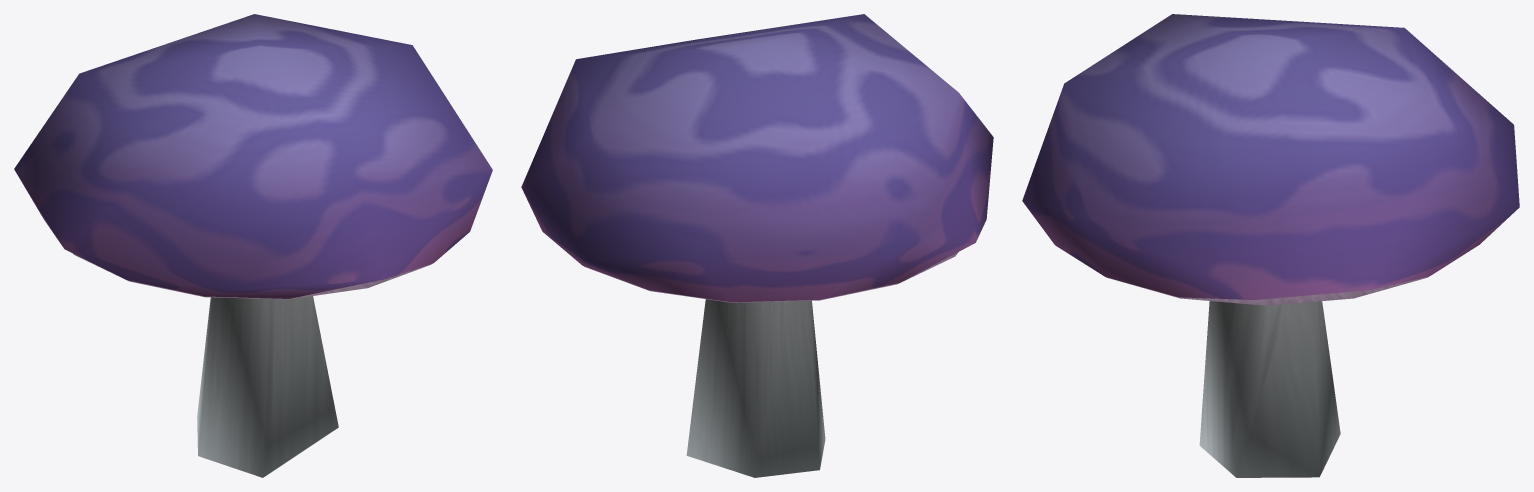
File: mushroom_02.fbx
The picture shows the model from 3 angles, left to right: view 1: azimuth 30°, elevation 25°; view 2: azimuth 150°, elevation 25°; view 3: azimuth 270°, elevation 25°; orthographic projection. The views are drawn at different scales.
Visible parts, largest first — view 1: Mushroom_01_Base.002; view 2: Mushroom_01_Base.002; view 3: Mushroom_01_Base.002.
Boxes of the visible parts, box(x1,y1,x2,y2) form: Mushroom_01_Base.002: box(14, 14, 492, 477); Mushroom_01_Base.002: box(521, 14, 993, 477); Mushroom_01_Base.002: box(1022, 14, 1519, 477).
Bounding box in the file's own units: 63.6 × 60.01 × 64.79.
